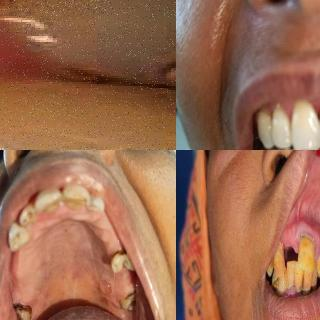Gum Swelling: (280, 229, 320, 257), (278, 288, 300, 300)
calculus: (34, 52, 106, 106), (295, 228, 316, 248), (274, 240, 286, 272), (302, 275, 311, 299), (277, 278, 289, 296), (286, 275, 295, 294), (294, 279, 302, 296)
cavities: (0, 0, 38, 36)
maligned: (314, 149, 314, 149)
plaque: (274, 244, 286, 275), (295, 268, 305, 288), (286, 266, 296, 284), (277, 274, 287, 292), (312, 266, 318, 292), (304, 266, 312, 284), (267, 258, 275, 276), (271, 274, 278, 294)
stains: (298, 238, 315, 272), (13, 301, 33, 320), (316, 258, 320, 274)
